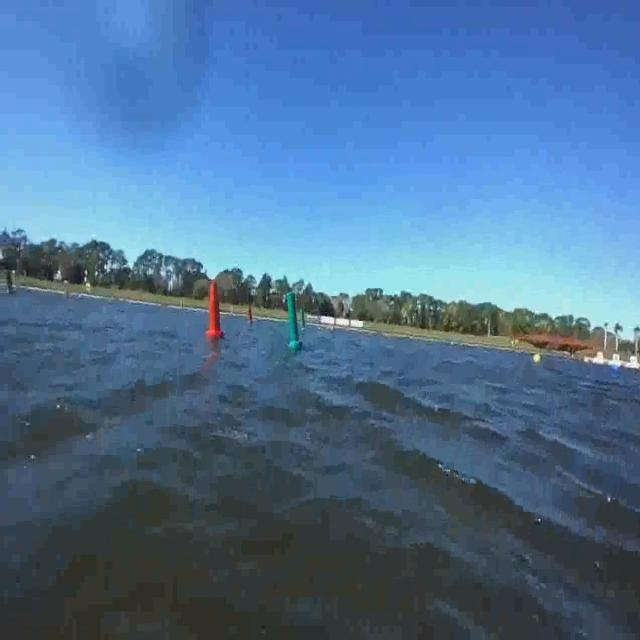green-column-buoy: (285, 293, 302, 350)
red-column-buoy: (206, 280, 224, 338), (248, 307, 254, 324)
yellow-buoy: (536, 351, 544, 366)
